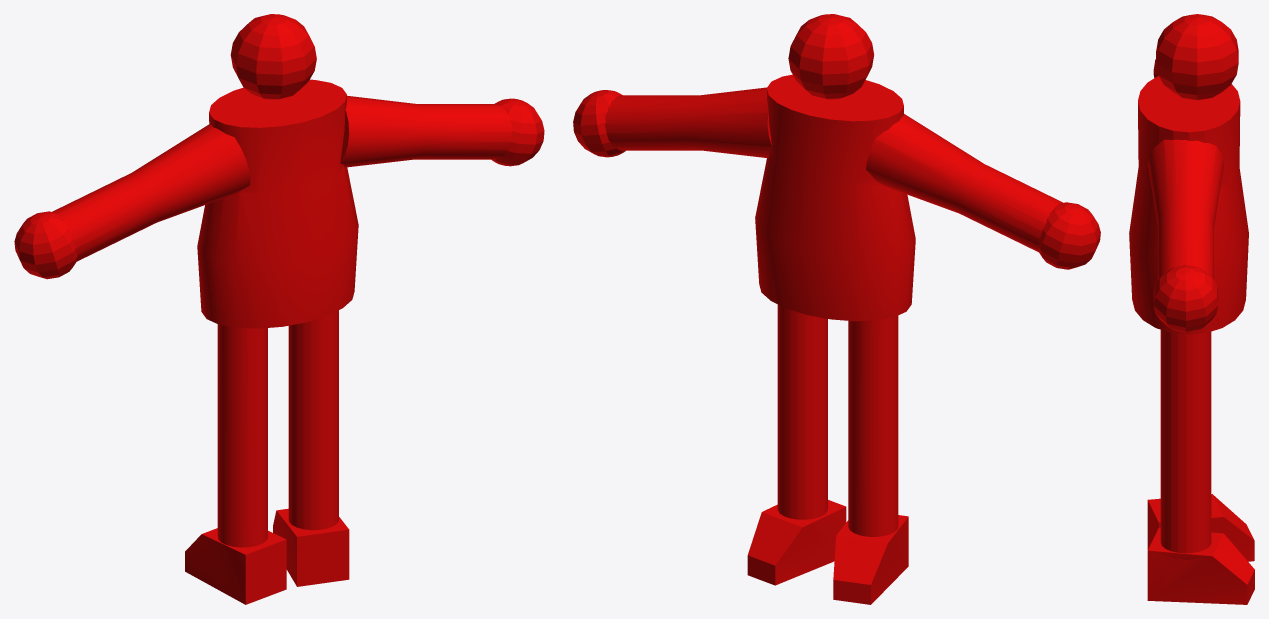
The model's file is Enemy-Low.fbx.
3 renders of one model, left to right at view 1: azimuth 30°, elevation 25°; view 2: azimuth 150°, elevation 25°; view 3: azimuth 270°, elevation 25°, orthographic.
Visible parts, largest first — view 1: polySurface1; view 2: polySurface1; view 3: polySurface1.
Boxes of the visible parts, left/top/right/bottom form: polySurface1: left=14, top=14, right=544, bottom=604; polySurface1: left=573, top=14, right=1100, bottom=604; polySurface1: left=1129, top=14, right=1254, bottom=604.
Bounding box in the file's own units: 3.24 × 3.31 × 0.6751.
